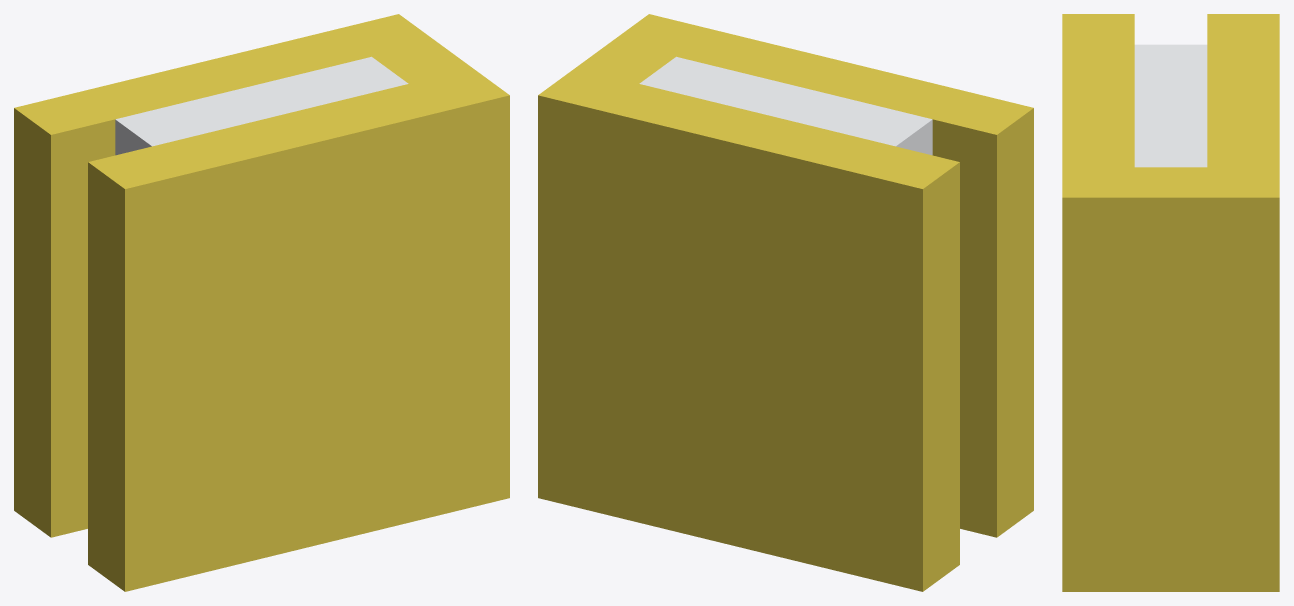
Rendered from book.obj.
3 views of the same model, side by side, from view 1: azimuth 30°, elevation 25°; view 2: azimuth 150°, elevation 25°; view 3: azimuth 270°, elevation 25° (orthographic). The views are drawn at different scales.
Size of the model in its own units: 0.6 by 0.6 by 0.3.
Materials: 1 (1 with a texture image).
